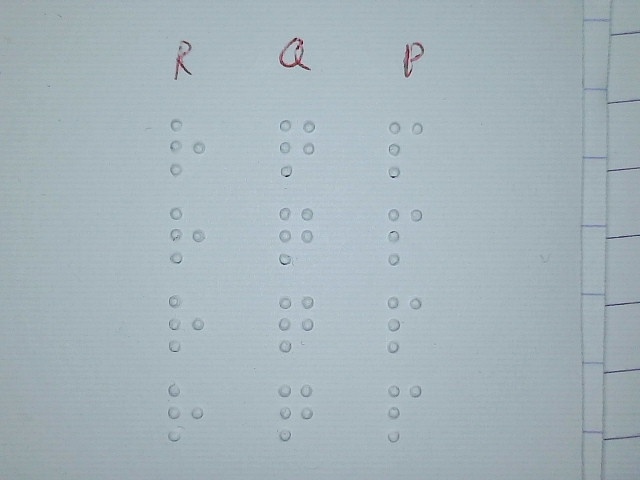P: (387, 120, 424, 178), (386, 207, 423, 265), (386, 295, 423, 353), (386, 384, 423, 442)
Q: (278, 205, 315, 266), (279, 118, 316, 176), (278, 294, 314, 353), (278, 383, 314, 442)
R: (167, 382, 204, 442), (169, 118, 206, 176), (169, 206, 206, 264), (167, 294, 204, 352)
